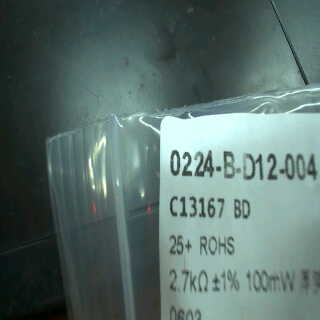2.7kR: (166, 266, 210, 298)
